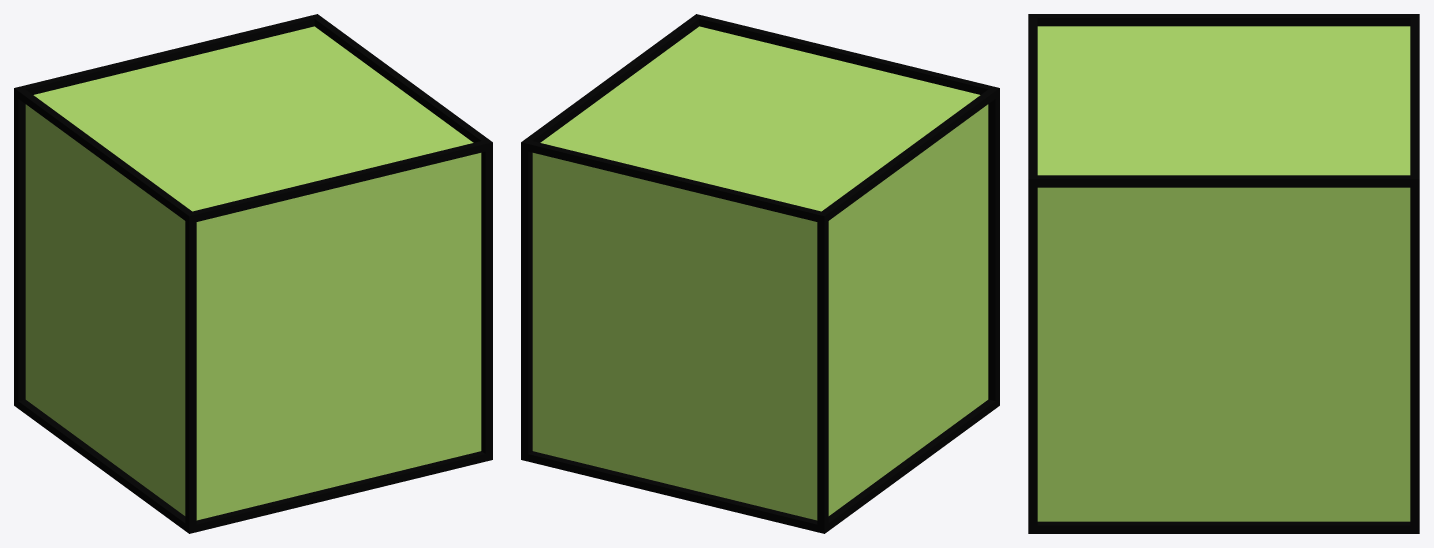
The model's file is greenOutline.fbx.
3 renders of one model, left to right at view 1: azimuth 30°, elevation 25°; view 2: azimuth 150°, elevation 25°; view 3: azimuth 270°, elevation 25°, orthographic. The views are drawn at different scales.
Visible parts, largest first — view 1: greenOutline; view 2: greenOutline; view 3: greenOutline.
Boxes of the visible parts, x1,y1,x2,y2 form: greenOutline: (14, 14, 492, 533); greenOutline: (521, 14, 999, 533); greenOutline: (1028, 14, 1419, 533).
Size of the model in its own units: 1.05 by 1.05 by 1.05.
